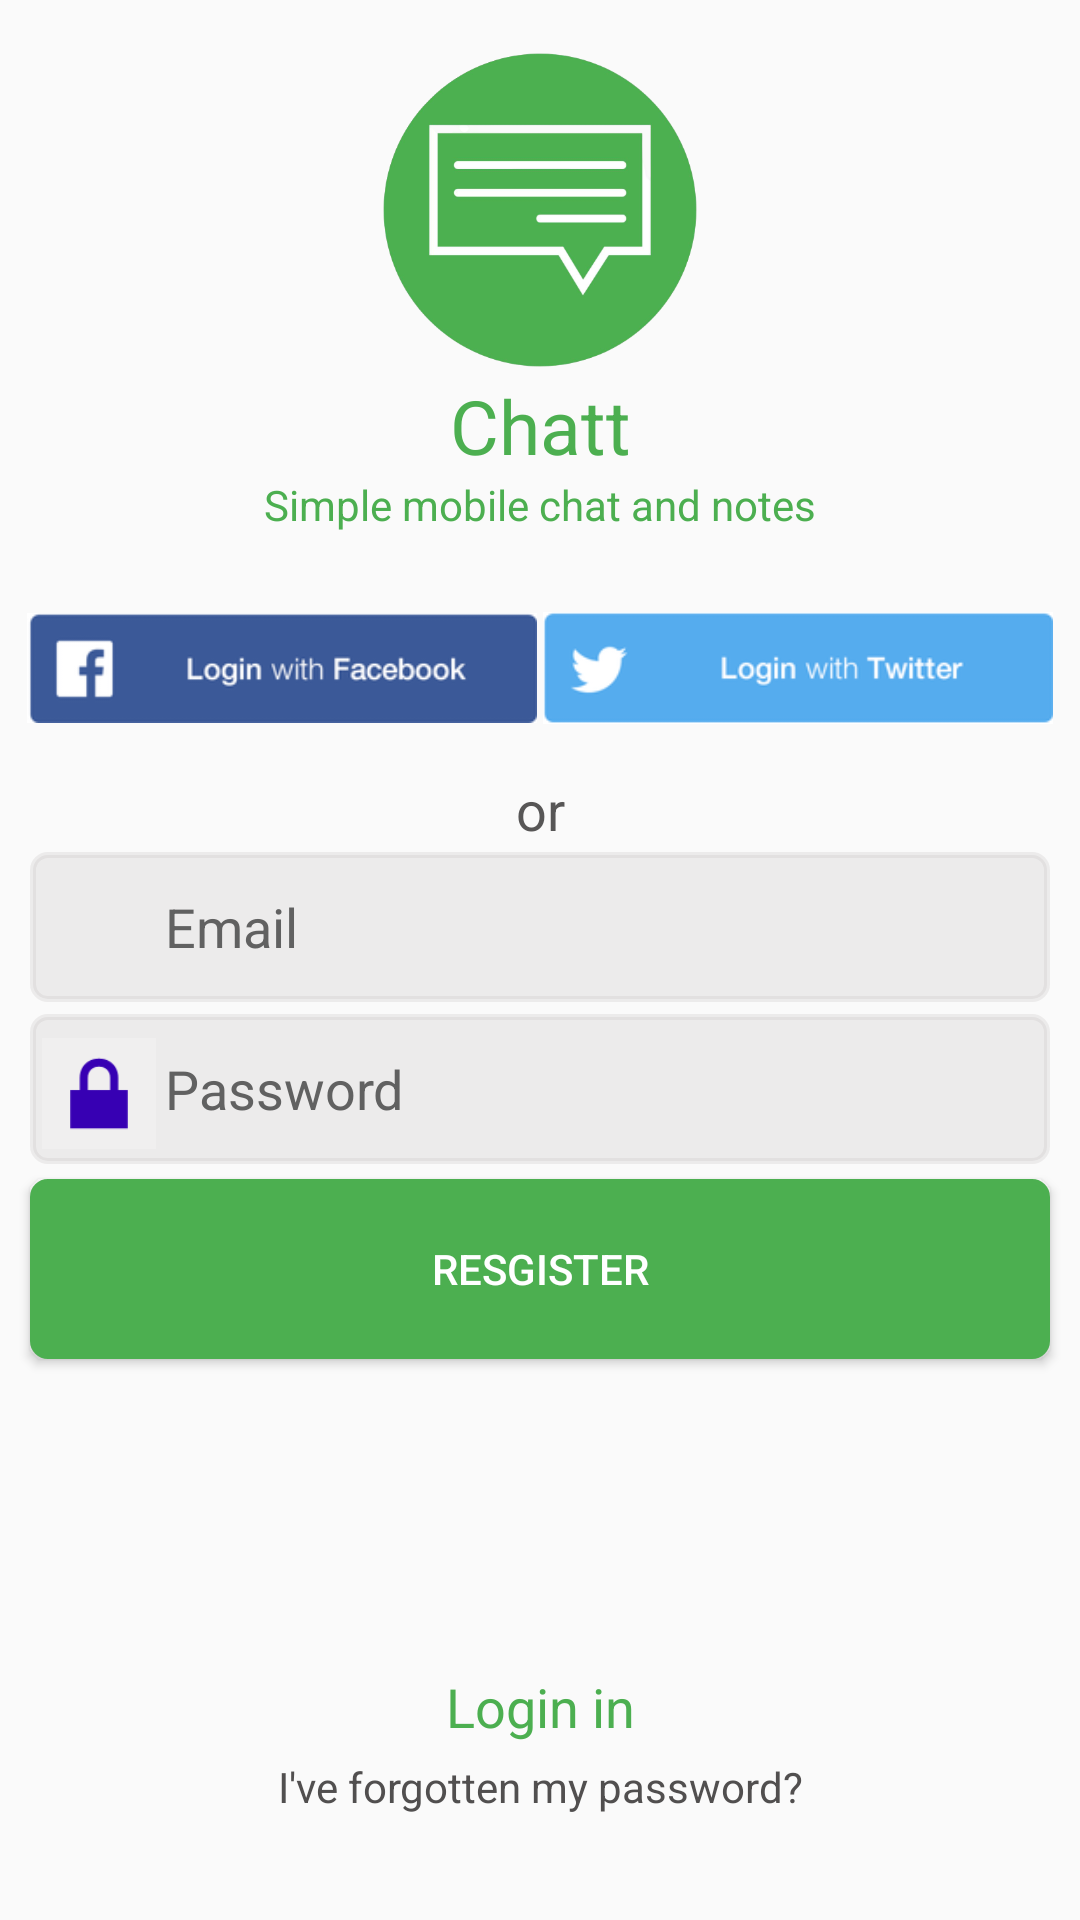

Icons on this 1080px×1920px Android screen, each with the point to tap as point (x, y):
lock: point (99, 1093)
